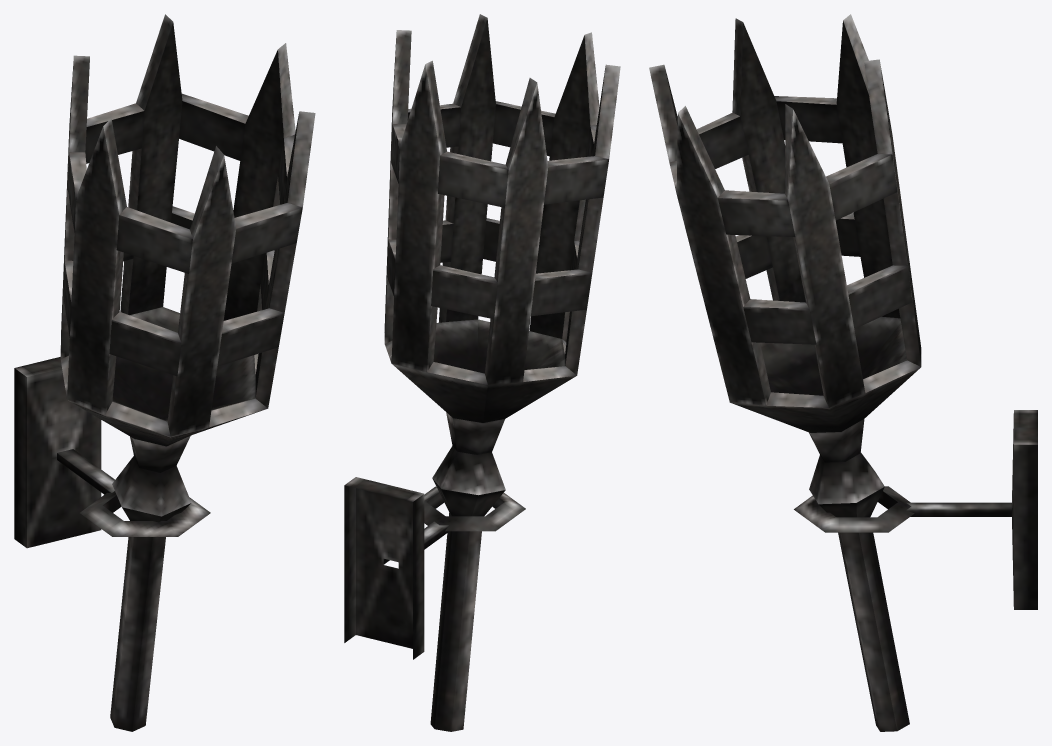
3 views of the same model, side by side, from view 1: azimuth 30°, elevation 25°; view 2: azimuth 150°, elevation 25°; view 3: azimuth 270°, elevation 25° (orthographic). The views are drawn at different scales.
Parts seen in each view (by area): view 1: object123; view 2: object123; view 3: object123.
Boxes of the visible parts, x1,y1,x2,y2 form: object123: [14, 14, 315, 731]; object123: [344, 14, 620, 731]; object123: [649, 14, 1037, 731].
Bounding box in the file's own units: 70.88 × 211 × 109.
1 material, 1 textured.
